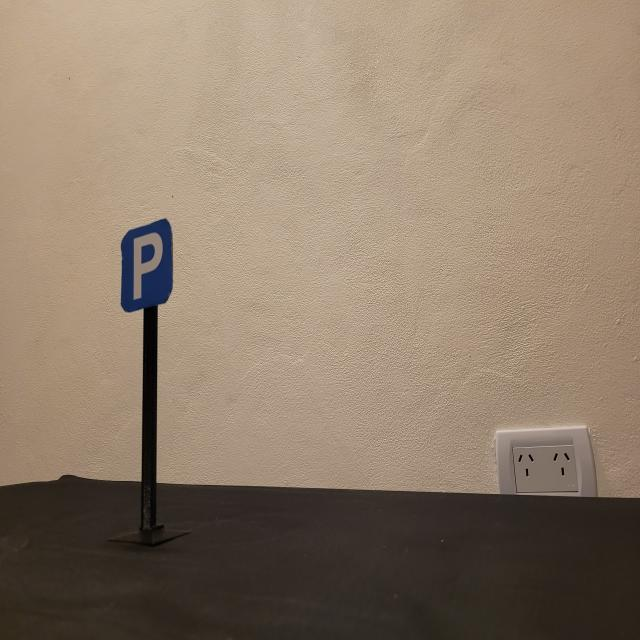parking: (121, 217, 173, 312)
